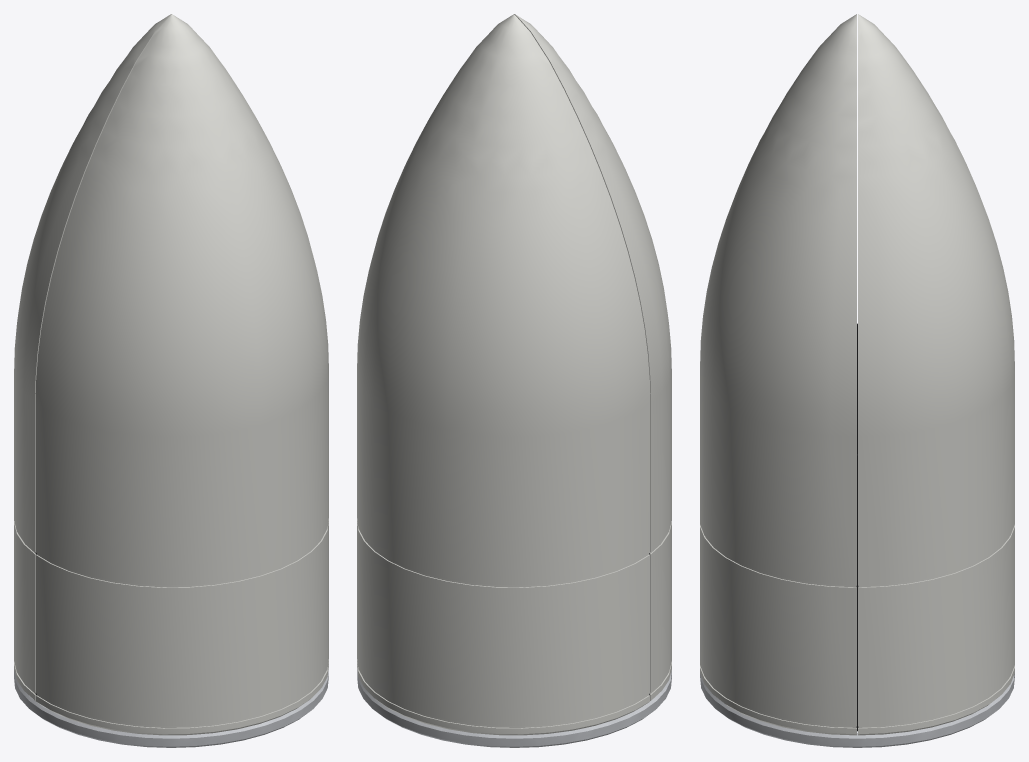
File: ax_struct_09_payload_fairing_m.glb
3 views of the same model, side by side, from view 1: azimuth 30°, elevation 25°; view 2: azimuth 150°, elevation 25°; view 3: azimuth 270°, elevation 25° (orthographic).
Parts seen in each view (by area): view 1: half_b, half_a, base_ring; view 2: half_a, half_b, base_ring; view 3: half_a, half_b, base_ring.
Part boxes in pixels (bbox=[...]): half_b: bbox=[35, 14, 328, 735]; half_a: bbox=[14, 14, 171, 700]; base_ring: bbox=[14, 670, 328, 747]; half_a: bbox=[357, 14, 650, 735]; half_b: bbox=[514, 14, 671, 700]; base_ring: bbox=[357, 670, 671, 747]; half_a: bbox=[858, 14, 1014, 735]; half_b: bbox=[700, 14, 856, 735]; base_ring: bbox=[700, 673, 1014, 747].
Bounding box in the file's own units: 2.5 × 5.86 × 2.5.
3 materials, 1 textured.
